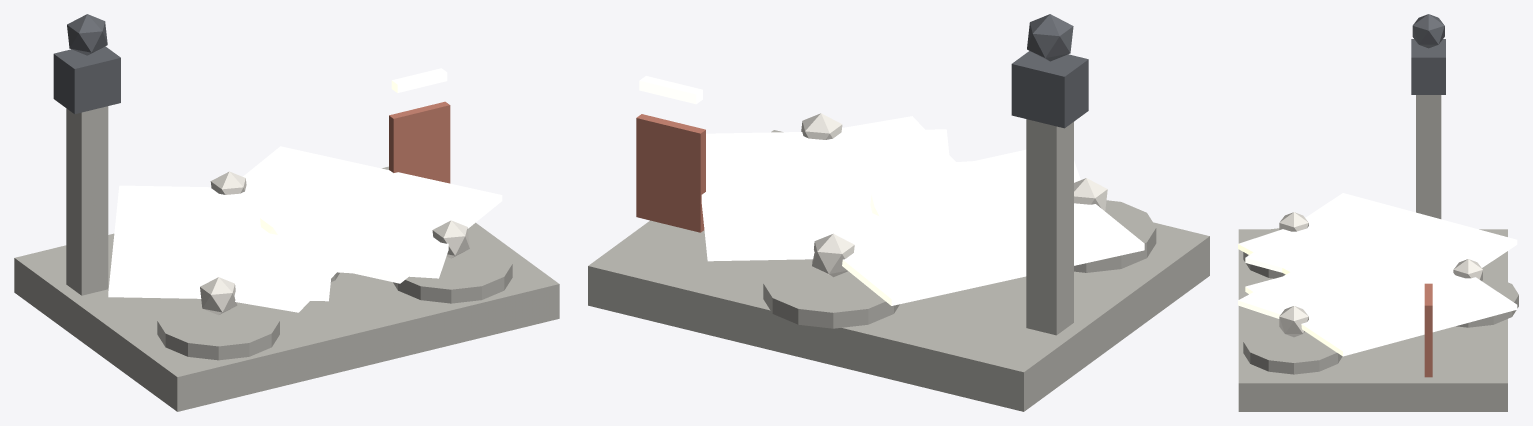
File: LM27_Konigsberg.glb
3 views of the same model, side by side, from view 1: azimuth 30°, elevation 25°; view 2: azimuth 150°, elevation 25°; view 3: azimuth 270°, elevation 25° (orthographic). The views are drawn at different scales.
Parts seen in each view (by area): view 1: KonigsbergBase, EdgeMT, EdgeST, EulerPillar, IslM, EdgeKS1, IslS, Plaque1736, EulerBust, EdgeKS2, EdgeKM1, EdgeKM2 (+6 smaller); view 2: KonigsbergBase, EdgeMT, EdgeST, EdgeKS1, EulerPillar, Plaque1736, IslT, EulerBust, EdgeKS2, EdgeKM2, EdgeKM1, IslM (+6 smaller); view 3: KonigsbergBase, EdgeST, EdgeKM1, EdgeMT, EdgeKS1, IslS, EdgeKS2, EulerPillar, EdgeKT, EulerBust, EdgeKM2, IslT (+8 smaller).
Part boxes in pixels (x1=…): KonigsbergBase: x1=14, y1=166, x2=559, y2=411; EdgeMT: x1=108, y1=185, x2=339, y2=301; EdgeST: x1=219, y1=146, x2=502, y2=283; EulerPillar: x1=66, y1=106, x2=108, y2=295; IslM: x1=157, y1=298, x2=279, y2=360; EdgeKS1: x1=288, y1=190, x2=462, y2=269; IslS: x1=393, y1=240, x2=512, y2=303; Plaque1736: x1=389, y1=101, x2=450, y2=183; EulerBust: x1=53, y1=46, x2=120, y2=114; EdgeKS2: x1=288, y1=198, x2=460, y2=278; EdgeKM1: x1=205, y1=215, x2=338, y2=312; EdgeKM2: x1=139, y1=212, x2=280, y2=306; KonigsbergBase: x1=588, y1=130, x2=1209, y2=411; EdgeMT: x1=775, y1=149, x2=1144, y2=305; EdgeST: x1=701, y1=129, x2=957, y2=261; EdgeKS1: x1=730, y1=119, x2=964, y2=203; EulerPillar: x1=1026, y1=119, x2=1073, y2=335; Plaque1736: x1=636, y1=114, x2=705, y2=232; IslT: x1=763, y1=259, x2=899, y2=328; EulerBust: x1=1011, y1=51, x2=1088, y2=128; EdgeKS2: x1=751, y1=116, x2=984, y2=218; EdgeKM2: x1=883, y1=164, x2=1100, y2=244; EdgeKM1: x1=880, y1=158, x2=1079, y2=199; IslM: x1=1074, y1=200, x2=1156, y2=272; KonigsbergBase: x1=1238, y1=229, x2=1507, y2=411; EdgeST: x1=1245, y1=239, x2=1517, y2=356; EdgeKM1: x1=1238, y1=211, x2=1419, y2=290; EdgeMT: x1=1245, y1=193, x2=1517, y2=272; EdgeKS1: x1=1250, y1=258, x2=1436, y2=337; IslS: x1=1243, y1=322, x2=1342, y2=374; EdgeKS2: x1=1238, y1=254, x2=1424, y2=332; EulerPillar: x1=1416, y1=95, x2=1441, y2=218; EdgeKT: x1=1381, y1=255, x2=1468, y2=288; EulerBust: x1=1411, y1=39, x2=1445, y2=94; EdgeKM2: x1=1253, y1=207, x2=1436, y2=286; IslT: x1=1456, y1=275, x2=1518, y2=327.
Bounding box in the file's own units: 2.37 × 1.77 × 1.77.
